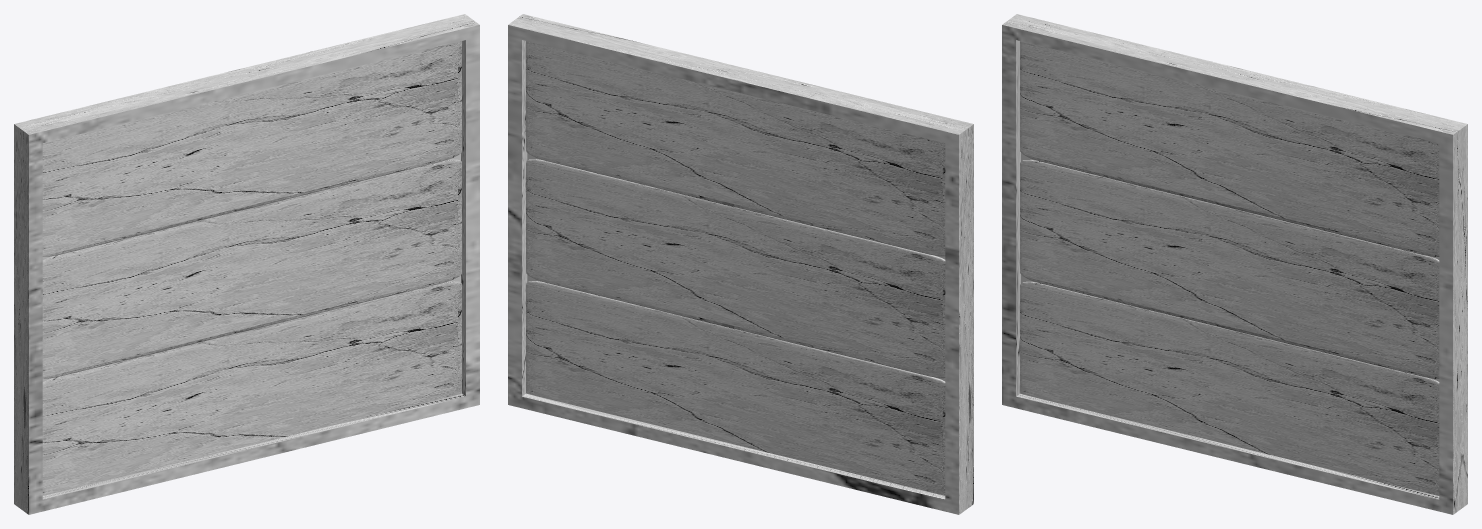
Rendered from garagedoor 1.fbx.
3 views of the same model, side by side, from view 1: azimuth 30°, elevation 25°; view 2: azimuth 150°, elevation 25°; view 3: azimuth 330°, elevation 25° (orthographic).
Parts seen in each view (by area): view 1: Cube.003, Cube.002, Cube.004, Cube; view 2: Cube.003, Cube.004, Cube.002, Cube; view 3: Cube.003, Cube.002, Cube.004, Cube.
Part boxes in pixels (x1=…): Cube.003: x1=42, y1=159, x2=461, y2=378; Cube.002: x1=42, y1=41, x2=461, y2=256; Cube.004: x1=42, y1=281, x2=461, y2=495; Cube: x1=14, y1=14, x2=479, y2=514; Cube.003: x1=526, y1=159, x2=945, y2=378; Cube.004: x1=526, y1=281, x2=945, y2=495; Cube.002: x1=526, y1=41, x2=945, y2=256; Cube: x1=508, y1=14, x2=973, y2=514; Cube.003: x1=1020, y1=159, x2=1439, y2=378; Cube.002: x1=1020, y1=41, x2=1439, y2=256; Cube.004: x1=1020, y1=281, x2=1439, y2=495; Cube: x1=1002, y1=14, x2=1467, y2=514.
Bounding box in the file's own units: 307 × 247 × 17.48.
